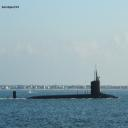submarine: (14, 66, 120, 99)
